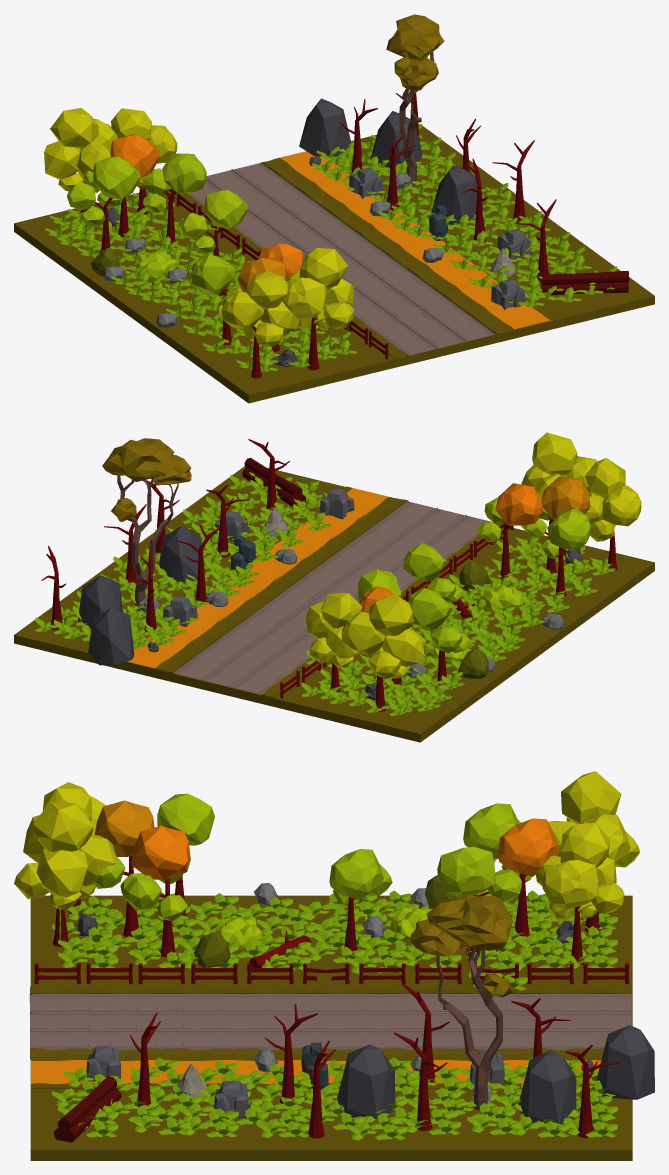
Rendered from Forest Area 3.fbx.
The picture shows the model from 3 angles, top to bottom: view 1: azimuth 30°, elevation 25°; view 2: azimuth 150°, elevation 25°; view 3: azimuth 270°, elevation 25°; orthographic projection. The views are drawn at different scales.
Visible parts, largest first — view 1: SM_Env_Path_Straight_01.1080, Plane.003, Tree3.005, SM_Env_Tree_02.002, Tree3.006, Tree3.003, Tree1.008, Tree1.010, Tree1.014, Rock_04.004, Tree1.009, Tree3.004 (+16 smaller); view 2: SM_Env_Path_Straight_01.1080, Plane.003, SM_Env_Tree_02.002, Tree3.003, Tree3.006, Tree3.004, Tree1.011, Tree3.005, Tree1.008, Rock_04.004, Tree1.012, Tree1.013 (+20 smaller); view 3: SM_Env_Path_Straight_01.1080, Plane.003, SM_Env_Tree_02.002, Tree3.005, Tree3.004, WoodFence1.001, Tree1.011, Tree3.003, Rock_04.004, Tree1.012, Rock_04.001, Rock_04 (+25 smaller).
Boxes of the visible parts, left/top/right/bottom form: SM_Env_Path_Straight_01.1080: left=168, top=151, right=556, bottom=359; Plane.003: left=14, top=126, right=654, bottom=403; Tree3.005: left=282, top=248, right=354, bottom=370; SM_Env_Tree_02.002: left=386, top=14, right=444, bottom=185; Tree3.006: left=221, top=270, right=299, bottom=378; Tree3.003: left=44, top=107, right=118, bottom=213; Tree1.008: left=67, top=156, right=140, bottom=252; Tree1.010: left=142, top=153, right=206, bottom=243; Tree1.014: left=180, top=189, right=248, bottom=256; Rock_04.004: left=299, top=98, right=350, bottom=157; Tree1.009: left=83, top=134, right=160, bottom=237; Tree3.004: left=111, top=108, right=177, bottom=214; SM_Env_Path_Straight_01.1080: left=125, top=486, right=503, bottom=697; Plane.003: left=14, top=466, right=654, bottom=742; SM_Env_Tree_02.002: left=102, top=438, right=191, bottom=610; Tree3.003: left=341, top=594, right=424, bottom=711; Tree3.006: left=585, top=458, right=641, bottom=570; Tree3.004: left=306, top=592, right=362, bottom=692; Tree1.011: left=477, top=483, right=542, bottom=578; Tree3.005: left=521, top=432, right=597, bottom=554; Tree1.008: left=407, top=588, right=470, bottom=684; Rock_04.004: left=88, top=607, right=134, bottom=665; Tree1.012: left=521, top=476, right=589, bottom=573; Tree1.013: left=540, top=508, right=590, bottom=596; SM_Env_Path_Straight_01.1080: left=29, top=986, right=631, bottom=1088; Plane.003: left=30, top=895, right=632, bottom=1160; SM_Env_Tree_02.002: left=410, top=894, right=513, bottom=1110; Tree3.005: left=14, top=802, right=116, bottom=946; Tree3.004: left=535, top=822, right=624, bottom=964; WoodFence1.001: left=34, top=963, right=629, bottom=984; Tree1.011: left=122, top=825, right=190, bottom=957; Tree3.003: left=548, top=771, right=639, bottom=932; Rock_04.004: left=596, top=1025, right=654, bottom=1099; Tree1.012: left=93, top=800, right=154, bottom=937; Rock_04.001: left=337, top=1044, right=395, bottom=1119; Rock_04: left=518, top=1050, right=576, bottom=1124.
Size of what is drawn, in the model's own units: 10102 by 4040 by 10652.
